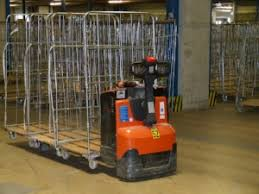Pallet Jack: (26, 57, 181, 181)
